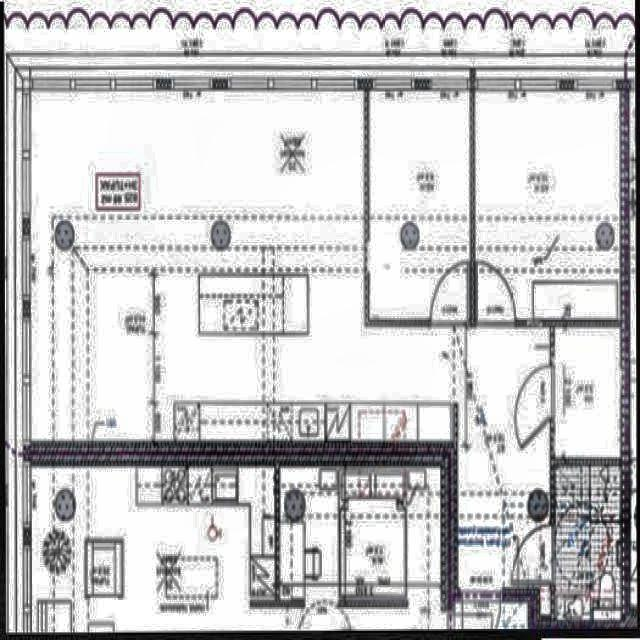room: (474, 91, 620, 320), (369, 91, 471, 321), (555, 466, 621, 619), (554, 327, 620, 459)
